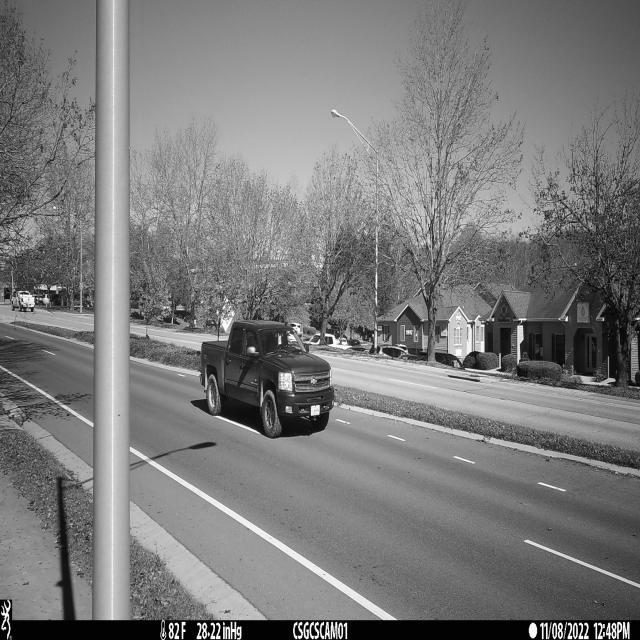Pickup: (200, 319, 334, 439)
